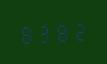eight: (18, 21, 34, 44), (52, 20, 68, 43)
three: (35, 20, 51, 44)
two: (69, 19, 85, 42)
